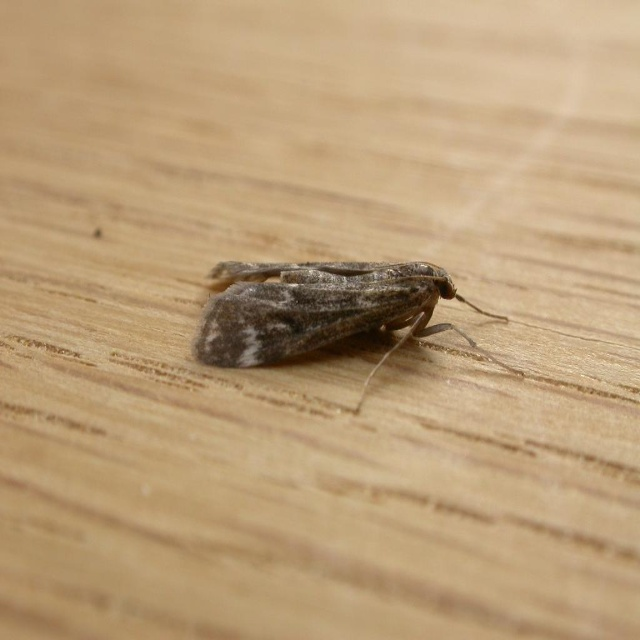Moths and butterflies: (191, 257, 529, 418)
